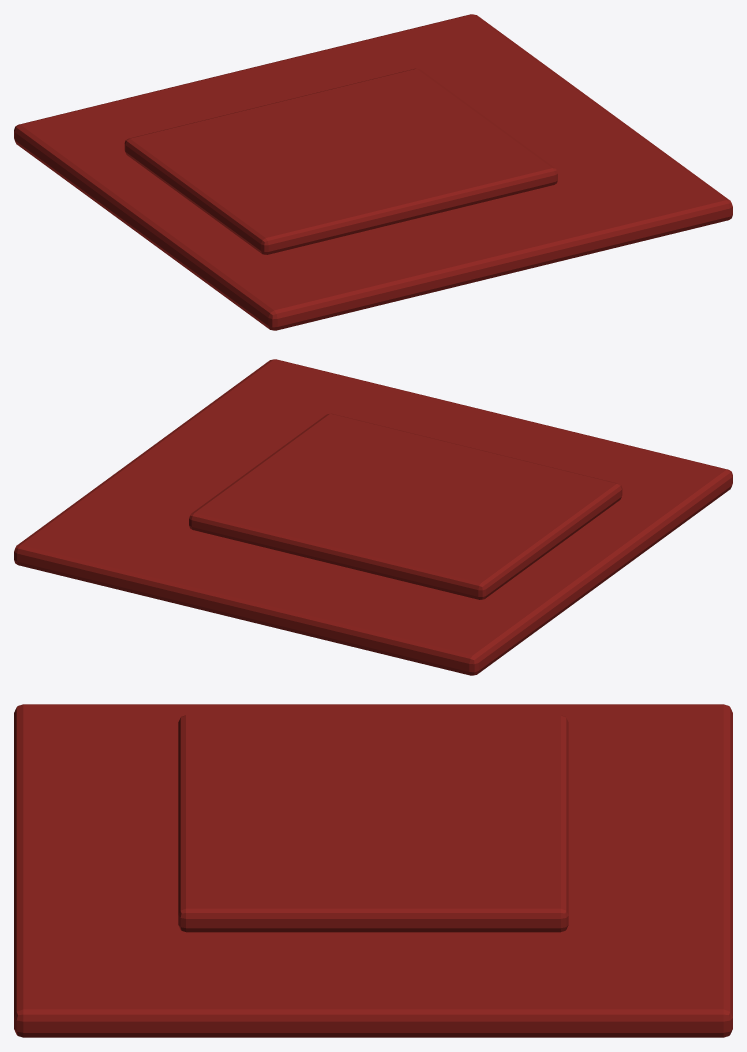
File: hood.obj
3 views of the same model, one above another, from view 1: azimuth 30°, elevation 25°; view 2: azimuth 150°, elevation 25°; view 3: azimuth 270°, elevation 25° (orthographic). The views are drawn at different scales.
Visible parts, largest first — view 1: Cube; view 2: Cube; view 3: Cube.
Part boxes in pixels (x1=…): Cube: x1=14, y1=14, x2=732, y2=330; Cube: x1=14, y1=359, x2=732, y2=675; Cube: x1=14, y1=704, x2=732, y2=1037.
Bounding box in the file's own units: 1.44 × 0.11 × 1.4.
